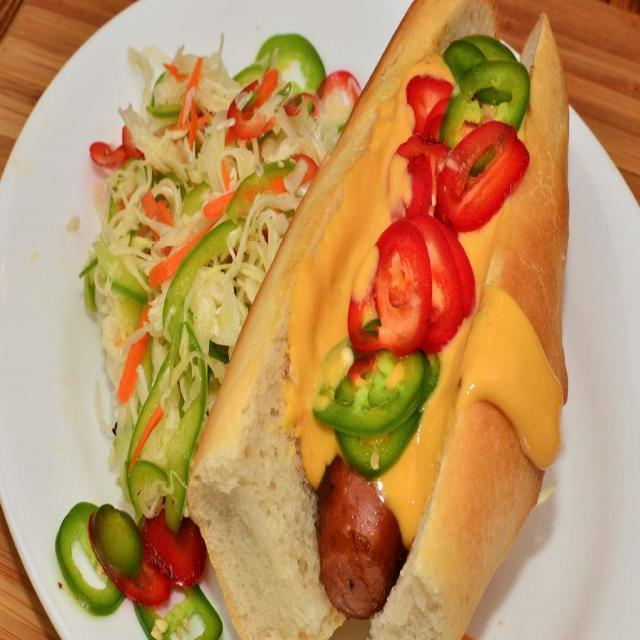Hot dog: (183, 0, 571, 639)
